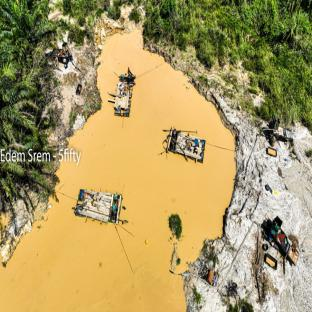ProcessingEquipment: (73, 185, 131, 243), (162, 125, 222, 172), (111, 64, 139, 131)
